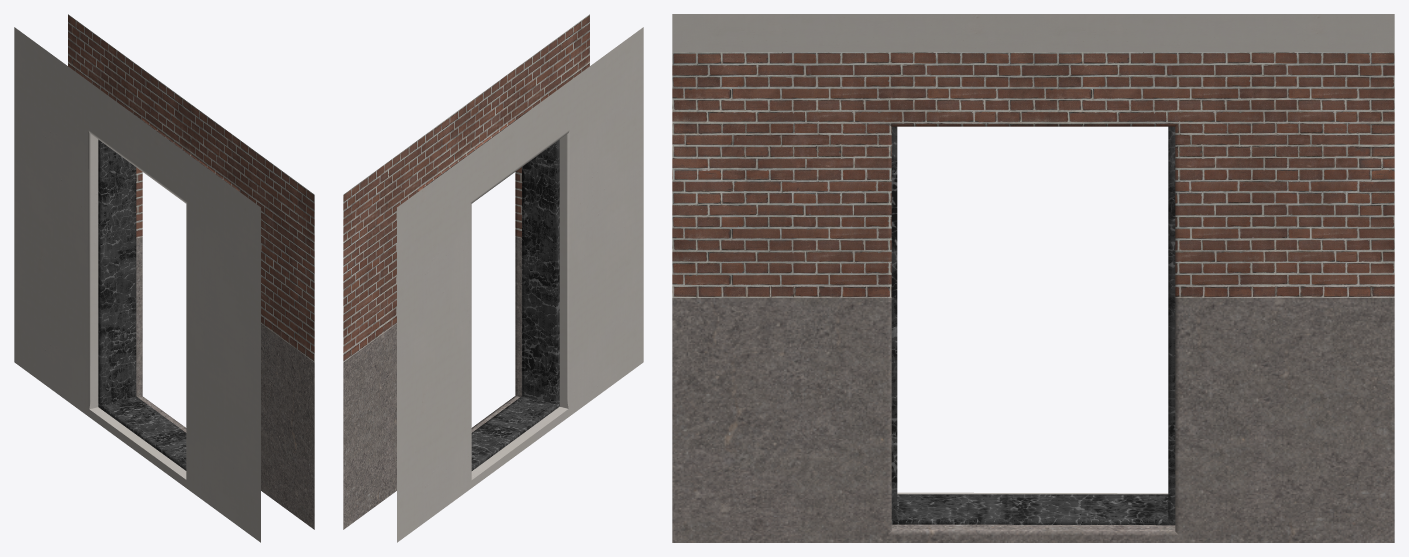
Rendered from BuildingB_Bottom_Wall_VarC_mdl.fbx.
3 views of the same model, side by side, from view 1: azimuth 30°, elevation 25°; view 2: azimuth 150°, elevation 25°; view 3: azimuth 270°, elevation 25° (orthographic). The views are drawn at different scales.
Parts seen in each view (by area): view 1: BuildingB_Bottom_Wall_VarC_LOD0; view 2: BuildingB_Bottom_Wall_VarC_LOD0; view 3: BuildingB_Bottom_Wall_VarC_LOD0.
Boxes of the visible parts, x1=… form: BuildingB_Bottom_Wall_VarC_LOD0: x1=14, y1=14, x2=314, y2=542; BuildingB_Bottom_Wall_VarC_LOD0: x1=343, y1=14, x2=643, y2=542; BuildingB_Bottom_Wall_VarC_LOD0: x1=672, y1=14, x2=1394, y2=542.
Size of what is drawn, in the model's own units: 50 by 300 by 400.
